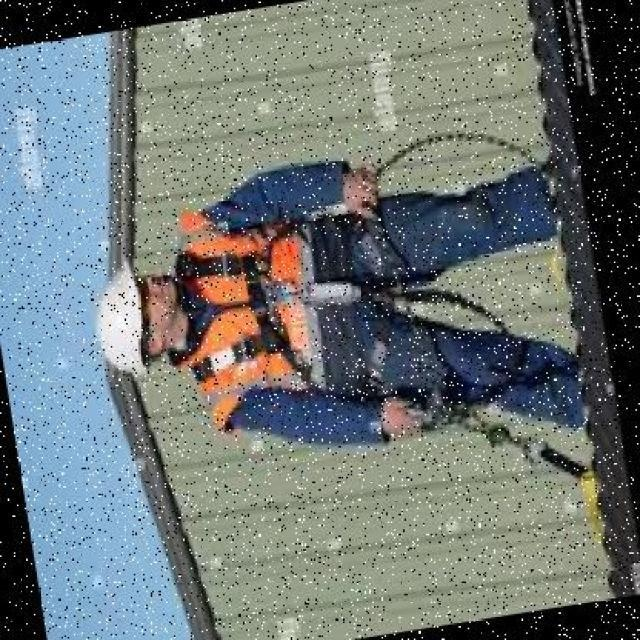Arnes_seguridad: (164, 189, 410, 426)
